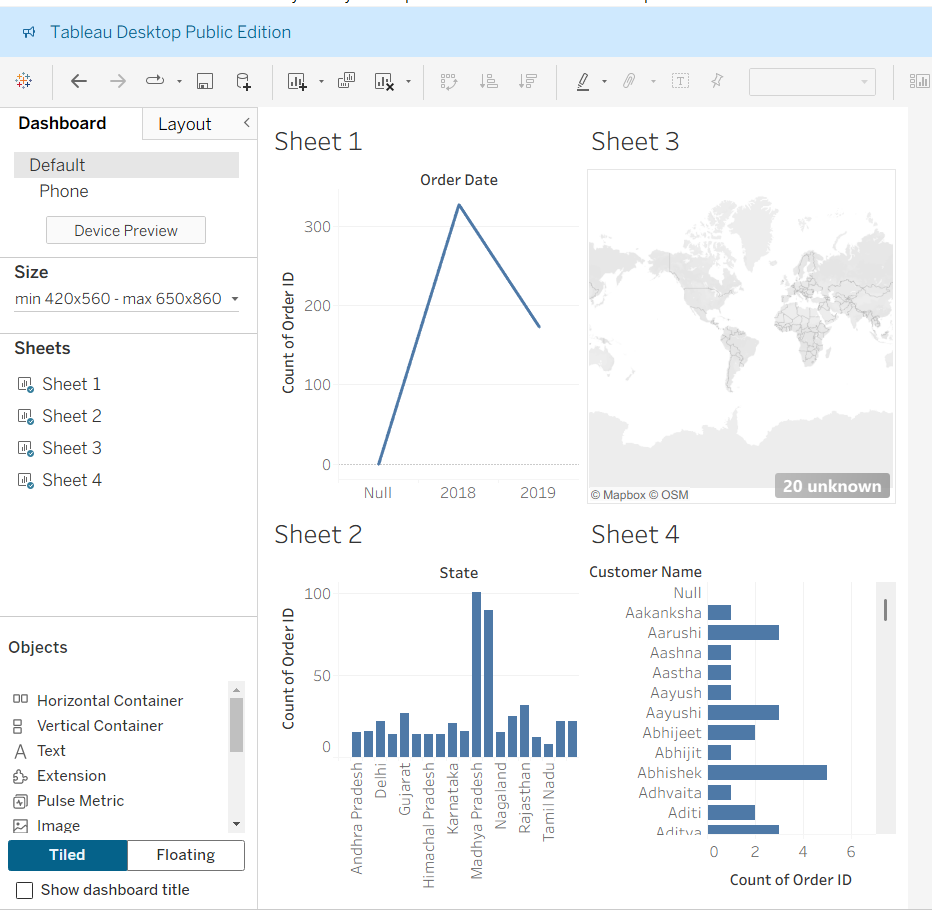

What the dashboard file says about the page in this screenshot:
{"tool":"tableau","page":{"name":"Dashboard 1","canvas":[650,860],"ordinal":0},"visuals":[{"type":"worksheet","title":"Sheet 1","mark":"Automatic","rows":["Order ID"],"cols":["Order Date"],"box":[8,8.6,317,421.4]},{"type":"worksheet","title":"Sheet 3","mark":"Automatic","box":[325,8.6,317,421.4]},{"type":"worksheet","title":"Sheet 2","mark":"Automatic","rows":["Order ID"],"cols":["State"],"box":[8,430,317,421.4]},{"type":"worksheet","title":"Sheet 4","mark":"Automatic","rows":["CustomerName"],"cols":["Order ID"],"box":[325,430,317,421.4]}]}

Visuals, with their boxes on the page's 650x860 design canvas (x1, y1, x2, y2). These are canvas units, not pixel positions in the 932x910 screenshot, which may show the page scaled, cropped or inside an application window:
"Sheet 1" worksheet: <box>8,9,325,430</box>
"Sheet 3" worksheet: <box>325,9,642,430</box>
"Sheet 2" worksheet: <box>8,430,325,851</box>
"Sheet 4" worksheet: <box>325,430,642,851</box>
